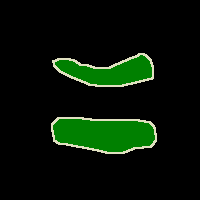shoe: (52, 117, 156, 153), (53, 53, 153, 86)
